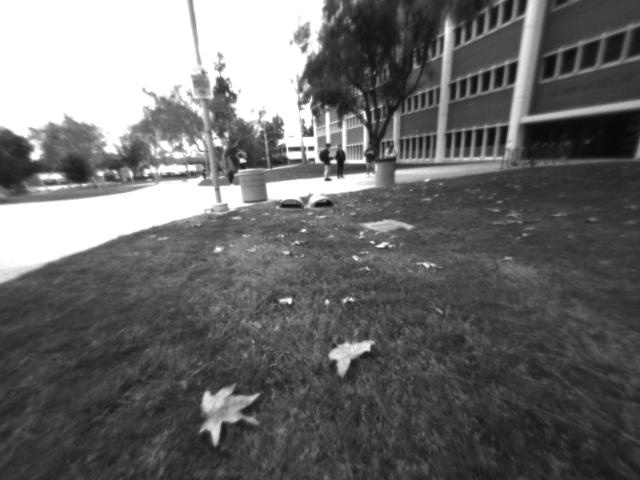trashcan: (237, 166, 271, 204), (368, 159, 395, 194)
